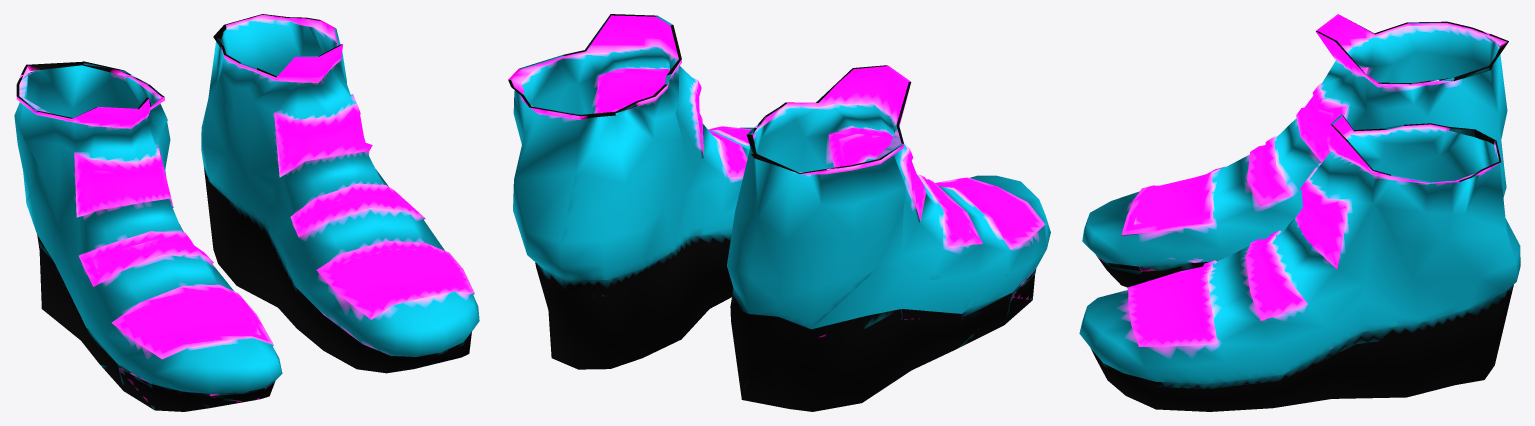
The model's file is Zapatilla_N.glb.
The picture shows the model from 3 angles, left to right: view 1: azimuth 30°, elevation 25°; view 2: azimuth 150°, elevation 25°; view 3: azimuth 270°, elevation 25°; orthographic projection. The views are drawn at different scales.
Parts seen in each view (by area): view 1: Mesh.002; view 2: Mesh.002; view 3: Mesh.002.
Part boxes in pixels (x1,y1,x2,y2): Mesh.002: [14, 14, 479, 411]; Mesh.002: [508, 14, 1050, 411]; Mesh.002: [1079, 14, 1520, 411].
Size of what is drawn, in the model's own units: 0.2971 by 0.2066 by 0.3275.
Materials: 1 (1 with a texture image).
